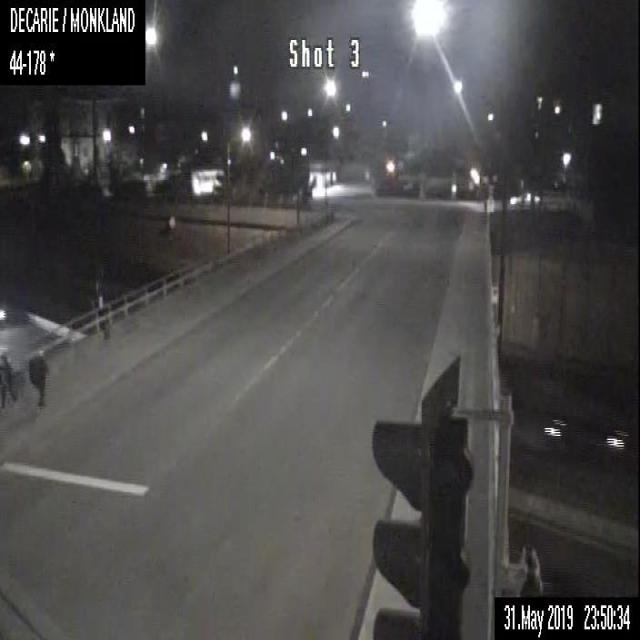pedestrian: (27, 348, 48, 405), (0, 353, 17, 410)
vehicle: (543, 411, 626, 456), (508, 191, 541, 205)
